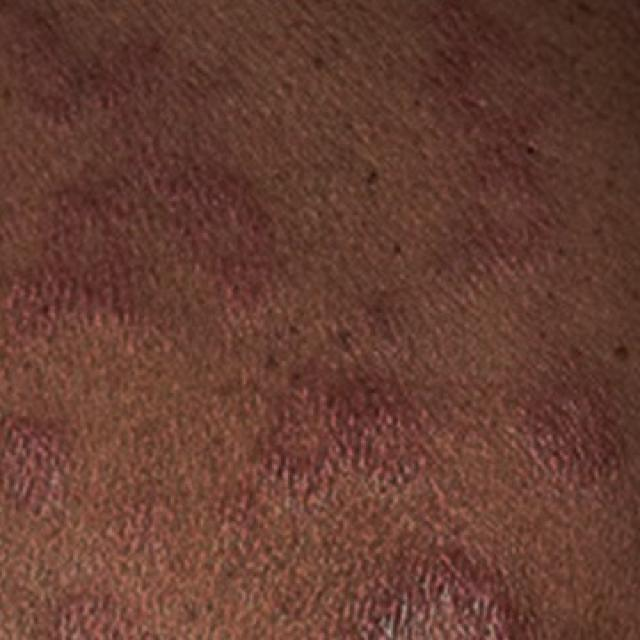Leprosy: (0, 0, 286, 324), (361, 21, 638, 278), (220, 341, 438, 512), (470, 341, 638, 523), (324, 532, 532, 638), (0, 396, 82, 544)
